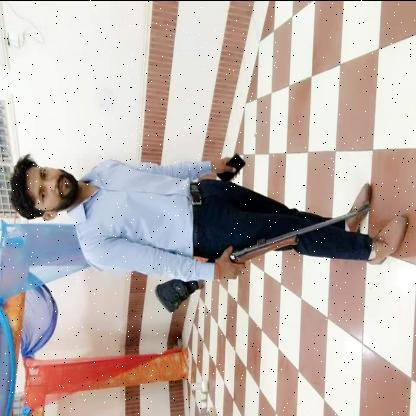rifle: (153, 196, 375, 316)
